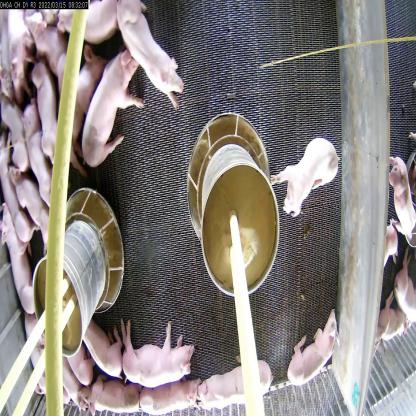Pig: (123, 0, 186, 103), (82, 53, 136, 167), (190, 348, 270, 415), (276, 138, 340, 216), (122, 319, 199, 383), (278, 311, 340, 388), (382, 140, 416, 266), (30, 48, 66, 163), (23, 107, 53, 227), (0, 209, 35, 307), (80, 321, 130, 388), (134, 378, 200, 416), (90, 378, 146, 416)
